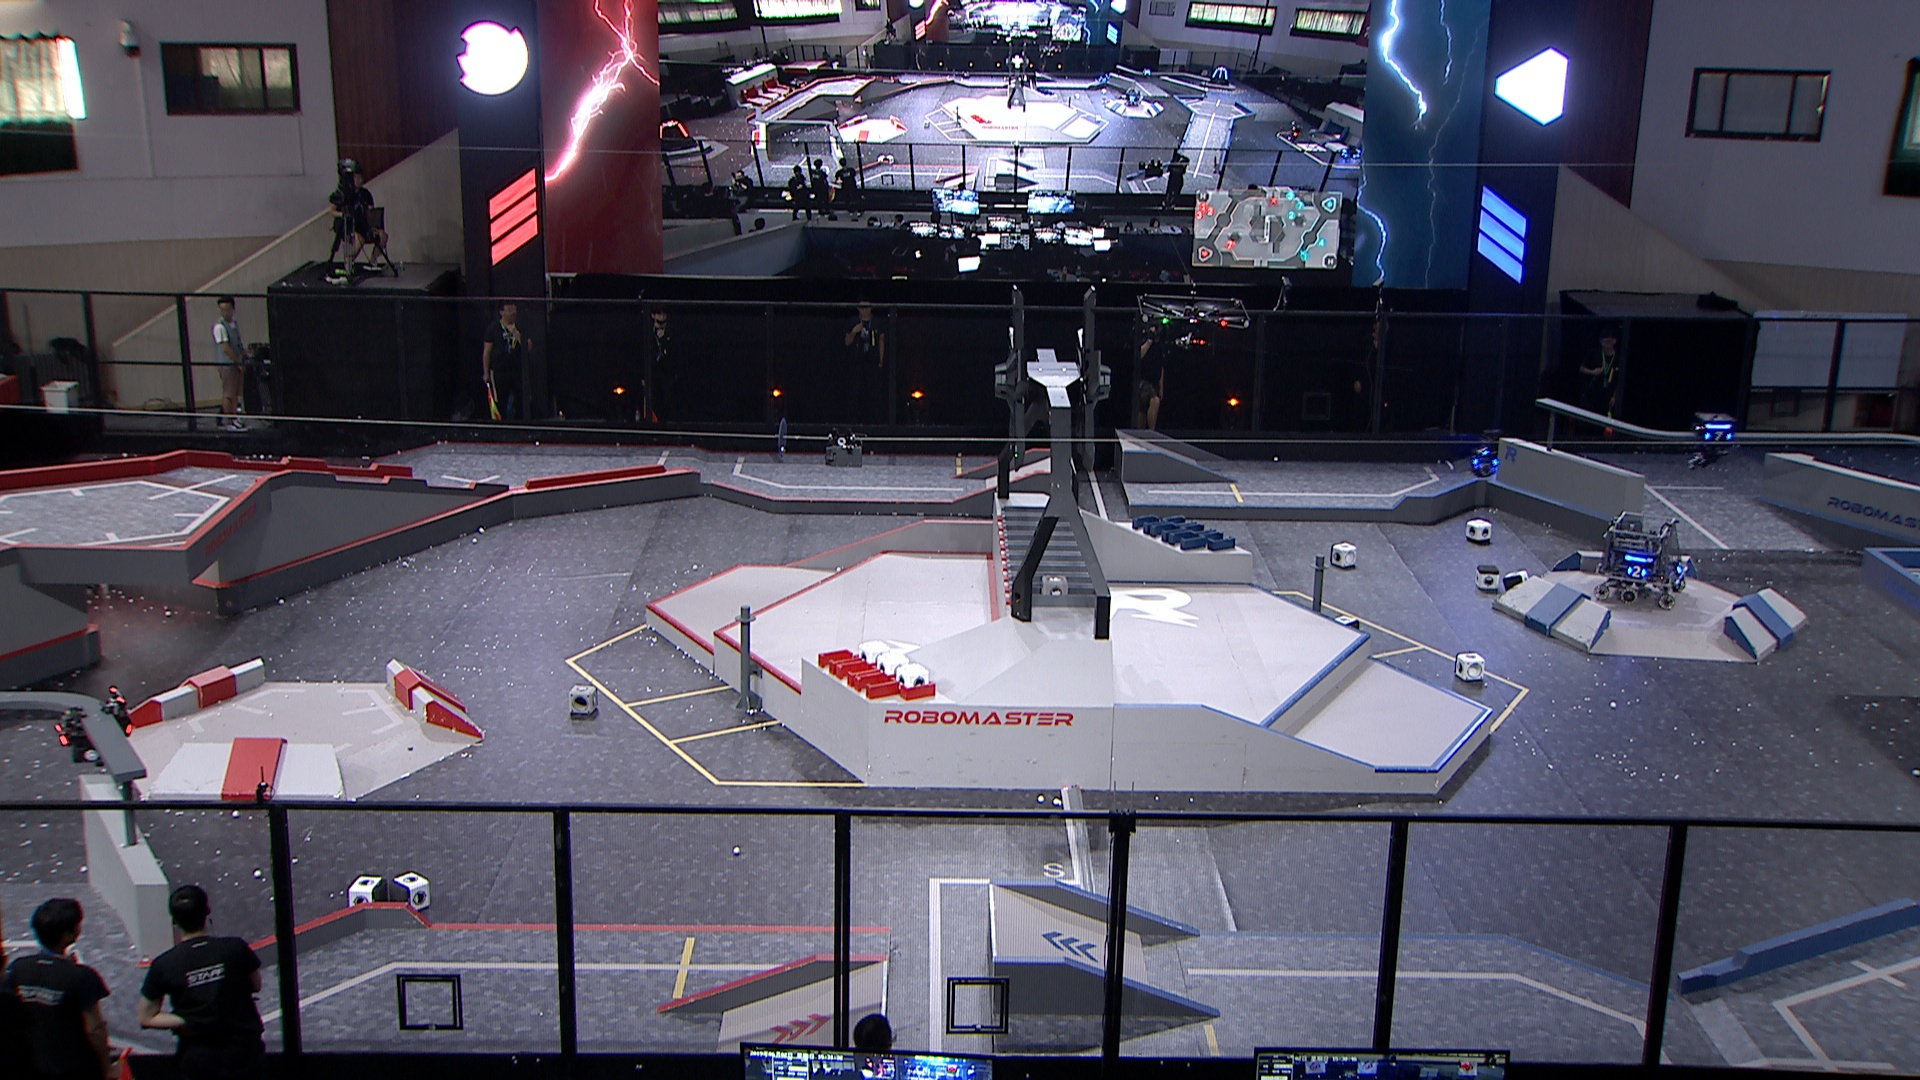armor: (50, 719, 71, 750), (1702, 427, 1735, 444), (1627, 562, 1648, 580), (1675, 559, 1691, 576), (1474, 440, 1490, 458)
car: (1590, 509, 1698, 611), (1466, 422, 1527, 477)
ignore: (659, 119, 694, 152), (1337, 142, 1367, 164), (1122, 84, 1145, 107), (1209, 65, 1233, 86)
watcher: (49, 680, 138, 769), (1688, 410, 1741, 475)
